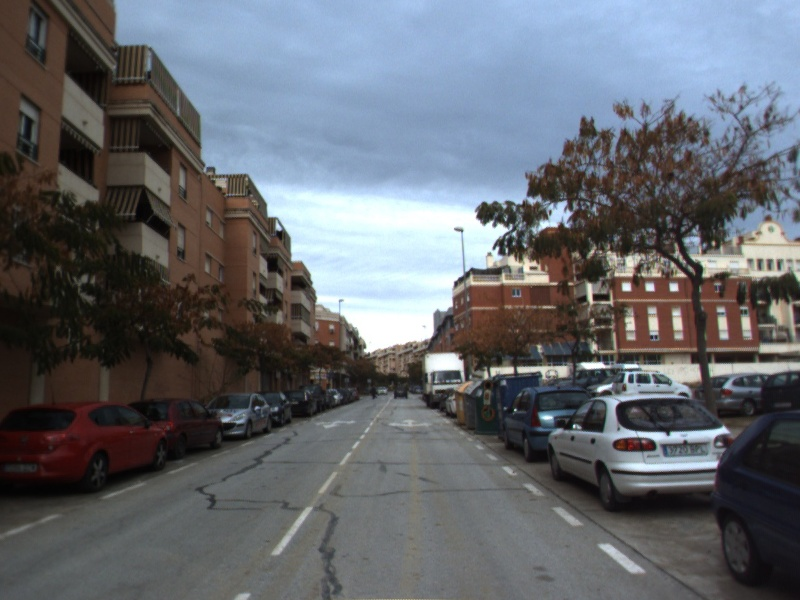STRAIGHT_LEFT_RIGHT: (386, 417, 435, 429)
